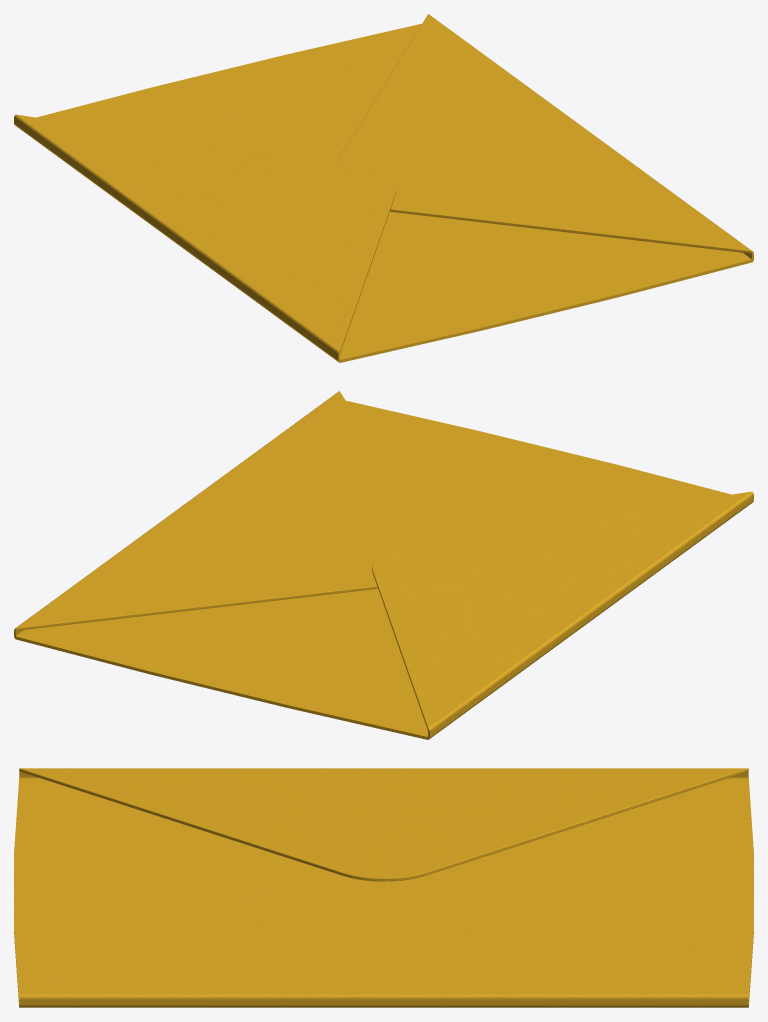
File: envelope.fbx
3 renders of one model, top to bottom at view 1: azimuth 30°, elevation 25°; view 2: azimuth 150°, elevation 25°; view 3: azimuth 270°, elevation 25°, orthographic. The views are drawn at different scales.
Visible parts, largest first — view 1: Plane; view 2: Plane; view 3: Plane.
Part boxes in pixels (x1,y1,x2,y2): Plane: [14, 14, 753, 362]; Plane: [14, 391, 753, 739]; Plane: [14, 768, 753, 1007].
Bounding box in the file's own units: 17.84 × 0.6547 × 24.43.
Materials: 1 (1 with a texture image).
